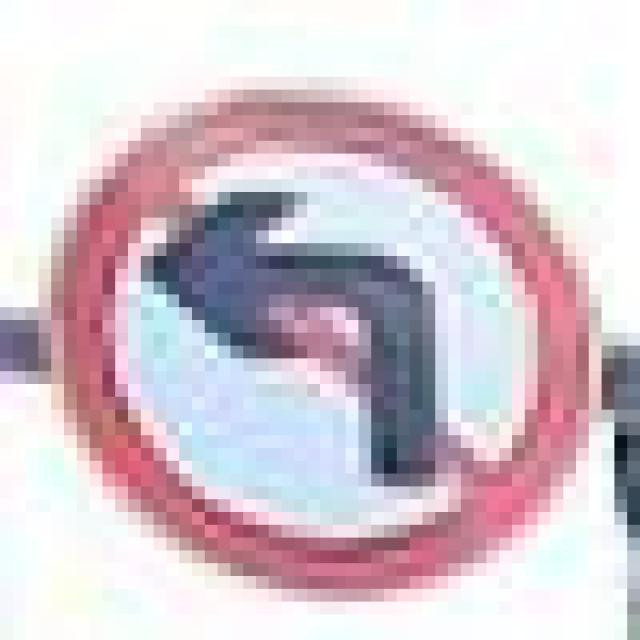left turn prohibited: (36, 71, 599, 607)
